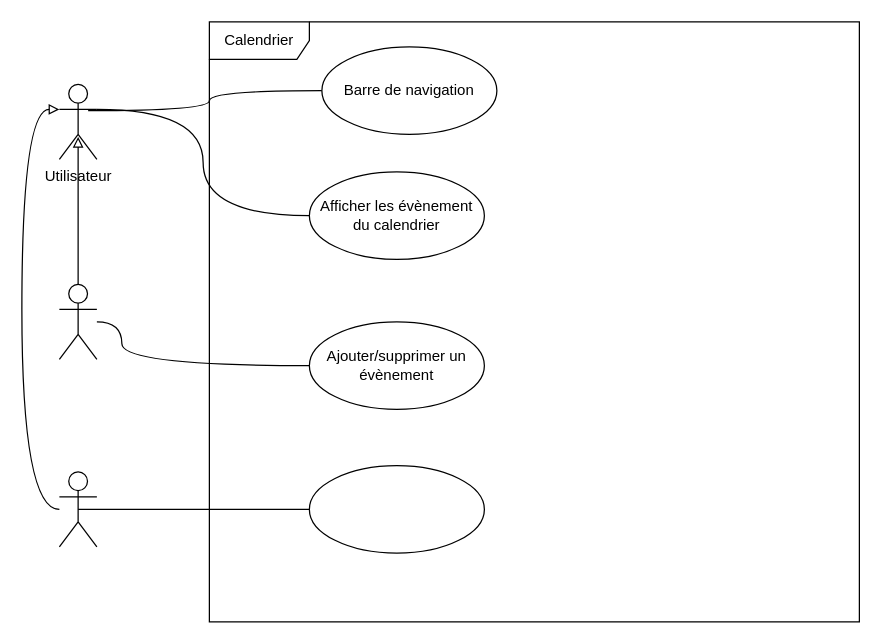
Some shapes in this 881 by 644 pixel diagram are drawn without their labels. The centre of each missing label's shape, as x and y in pixels:
Ajouter/supprimer un évènement pour un élève: the point at 396,508
Bénévole: the point at 77,509
Elève: the point at 77,321
